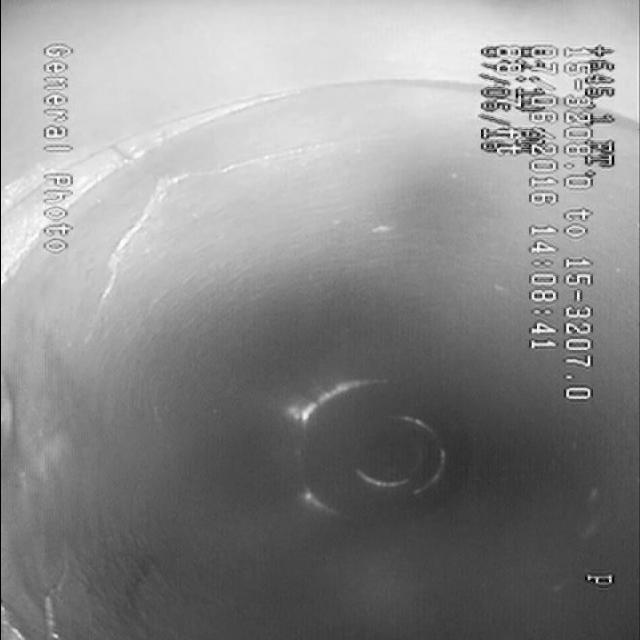Crack: (118, 116, 371, 242)
